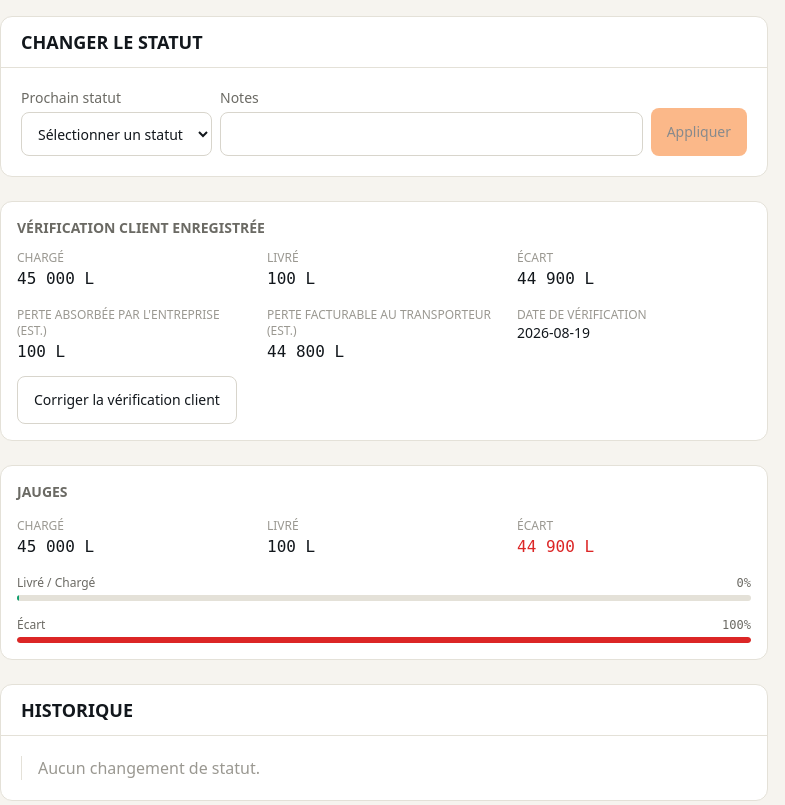
Test case: TripDetail expenses section › submits a client-verification correction and shows the correction history
(page scrolled)
Click the button "Corriger la vérification client". click: (127,400)
box: [17,376,237,424]
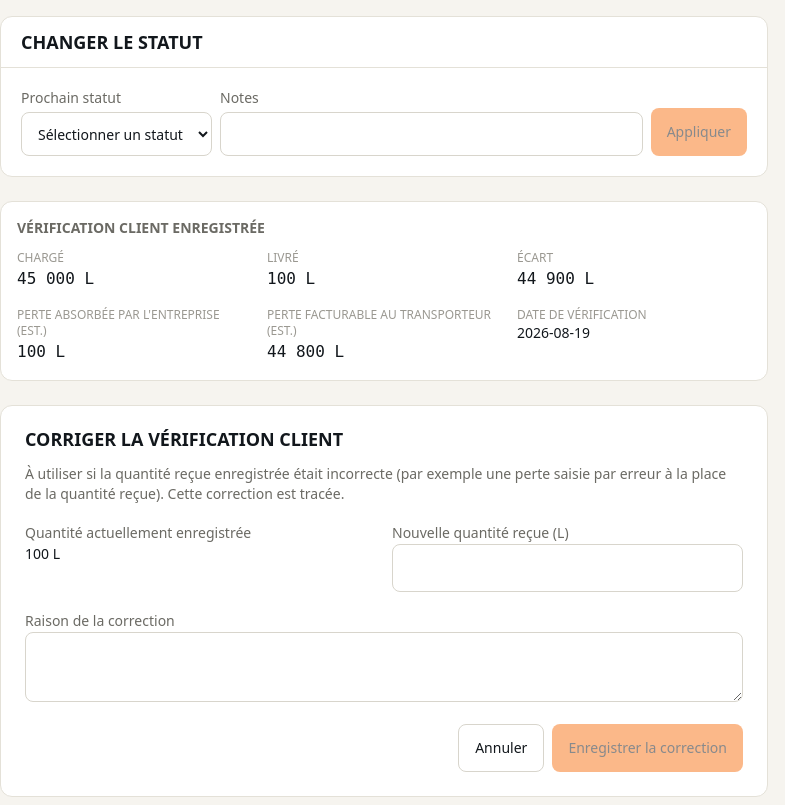
Type "44900" into the number field with test id "correction-received-quantity". click: (568,568)
box: [392,544,743,592]
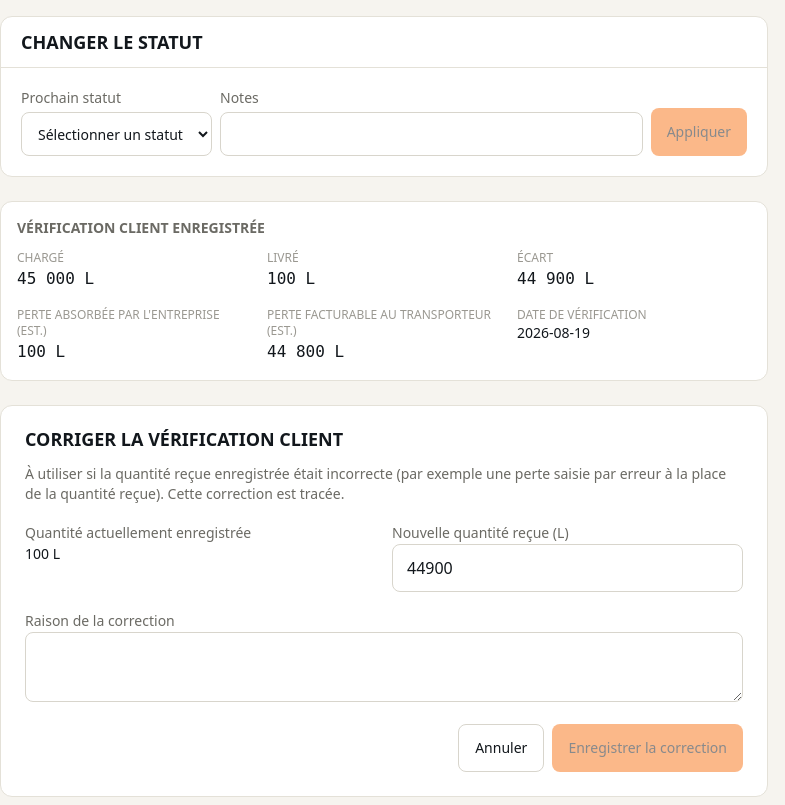
Type "L'operateur a saisi la perte au lieu de la quantite recue" into the text box with test id "correction-reason". click: (384,667)
box: [25,632,743,702]
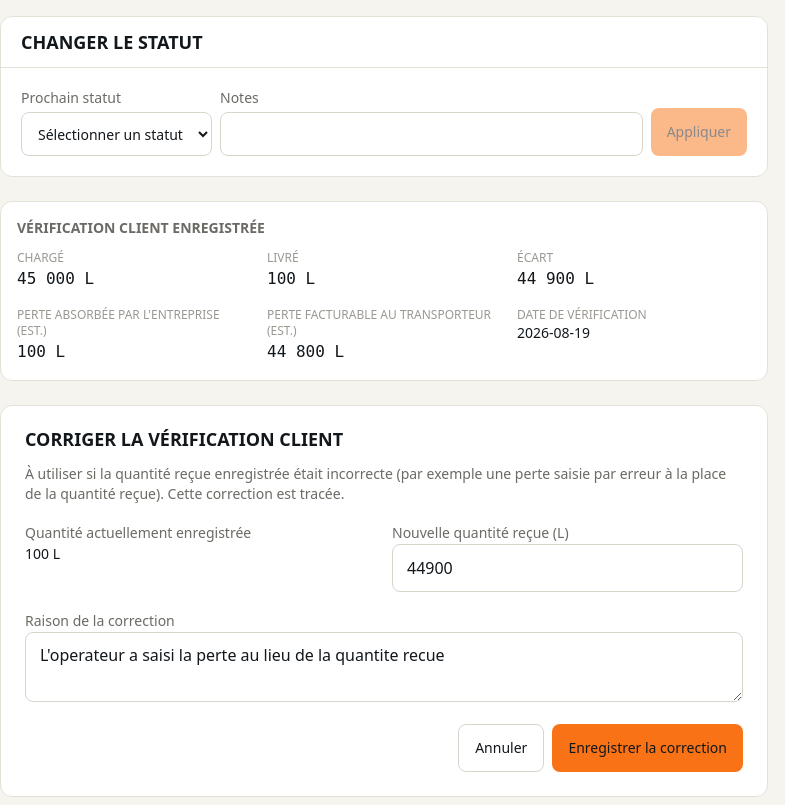
Submit the form, box [0,405,768,797]
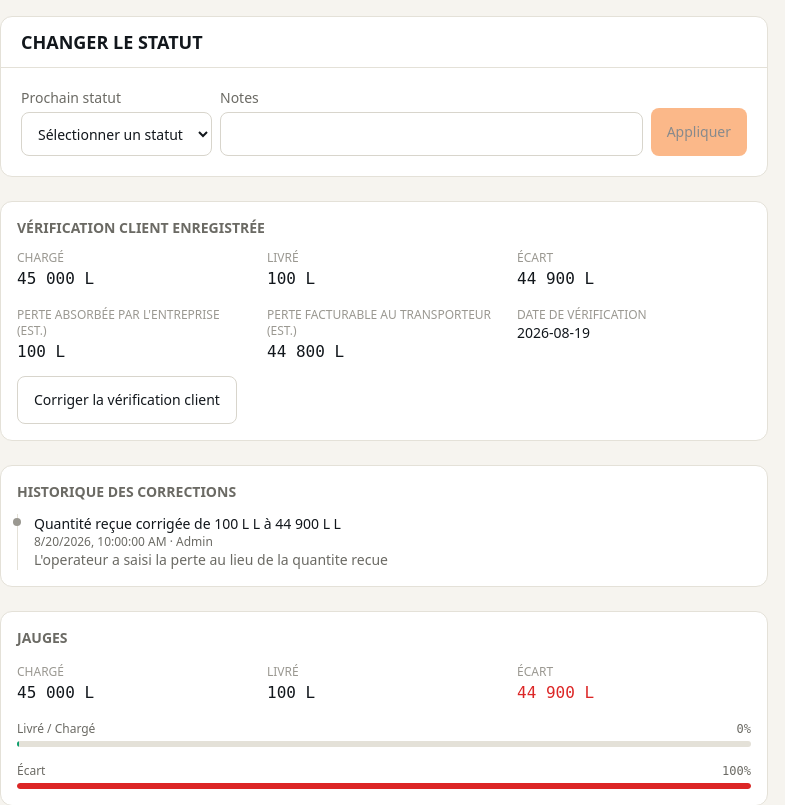
Now the element with test id "verification-correction-history" is shown, box [0,465,768,587]
Now the element with test id "verification-correction-history" shows "100", box [34,514,341,533]
Now the element with test id "verification-correction-history" shows "44 900", box [34,514,341,533]
